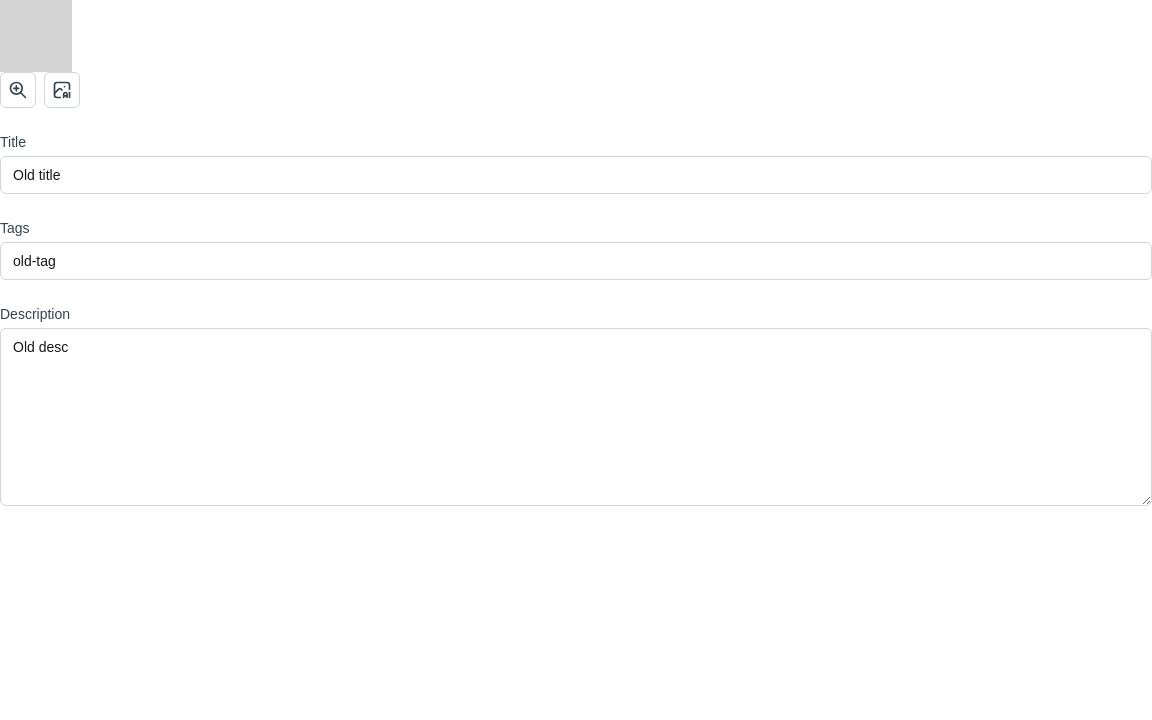
Scenario: ImageAiMetaSection › 取消确认不改表单，再次打开下拉回到页面语言
Step 1. Click the button named "AI recognize" → (62, 90), box [44,72,80,108]
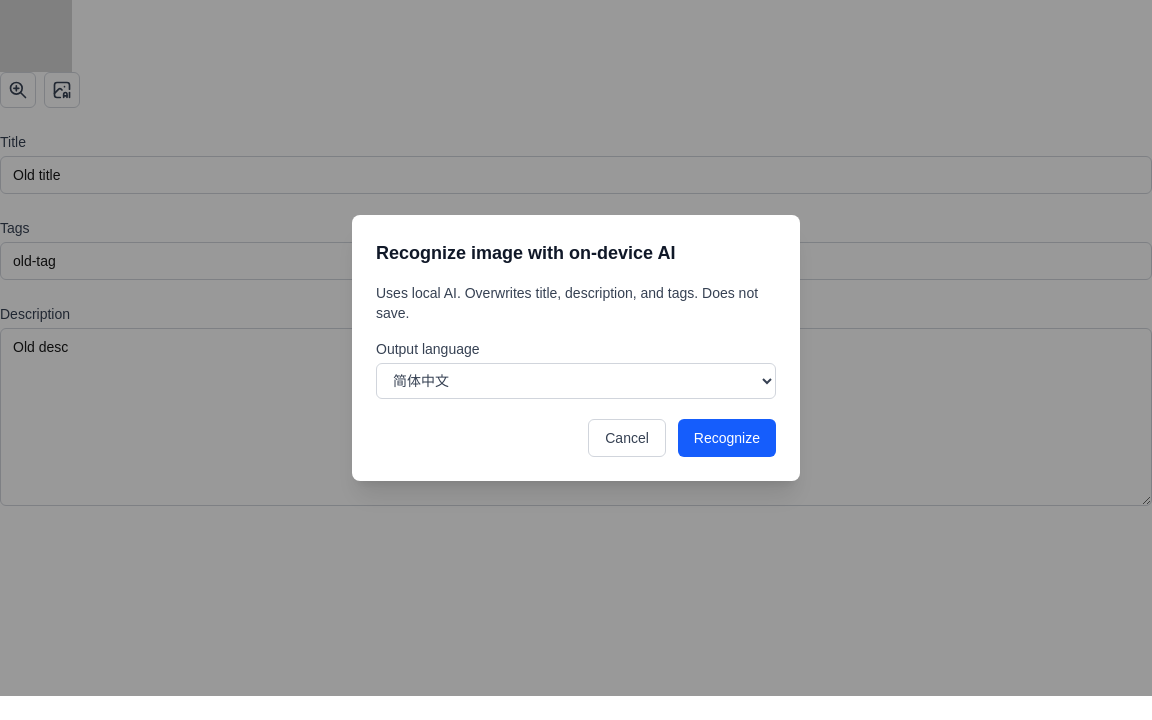
Expected: the dropdown labelled "Output language" shows "简体中文"
Step 2. Select "English" in the dropdown labelled "Output language" → (576, 381), box [376,363,776,399]
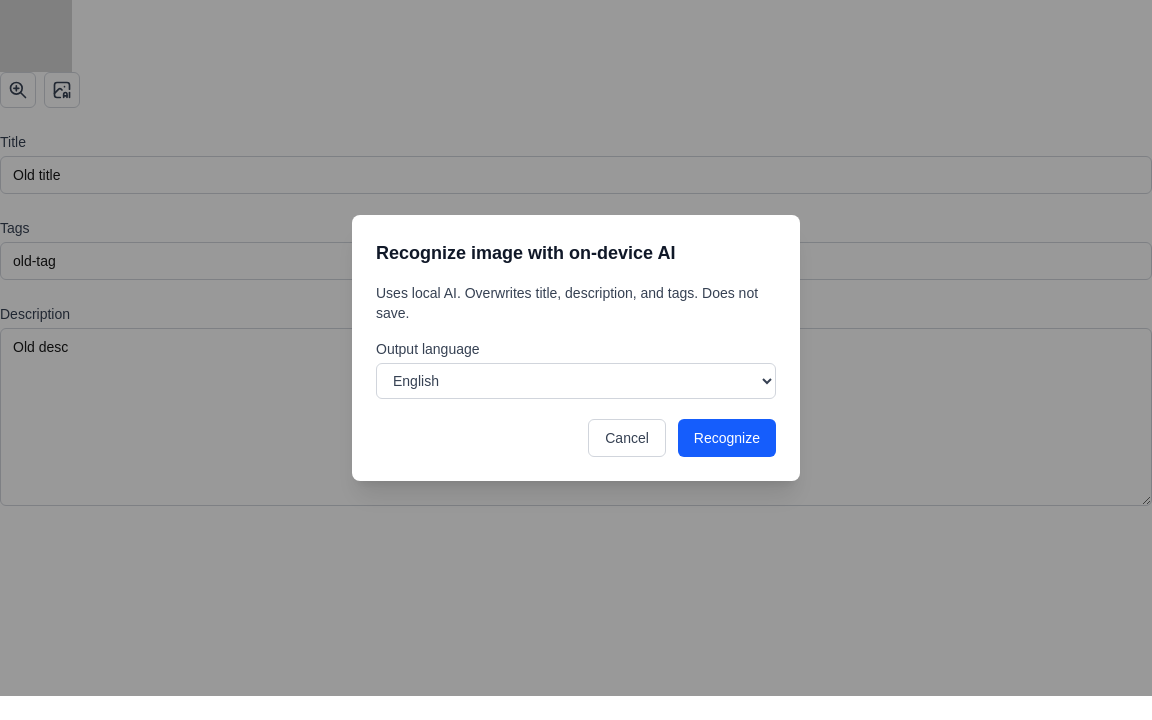
Step 3. Click the button "Cancel" → (627, 438), box [588,419,666,457]
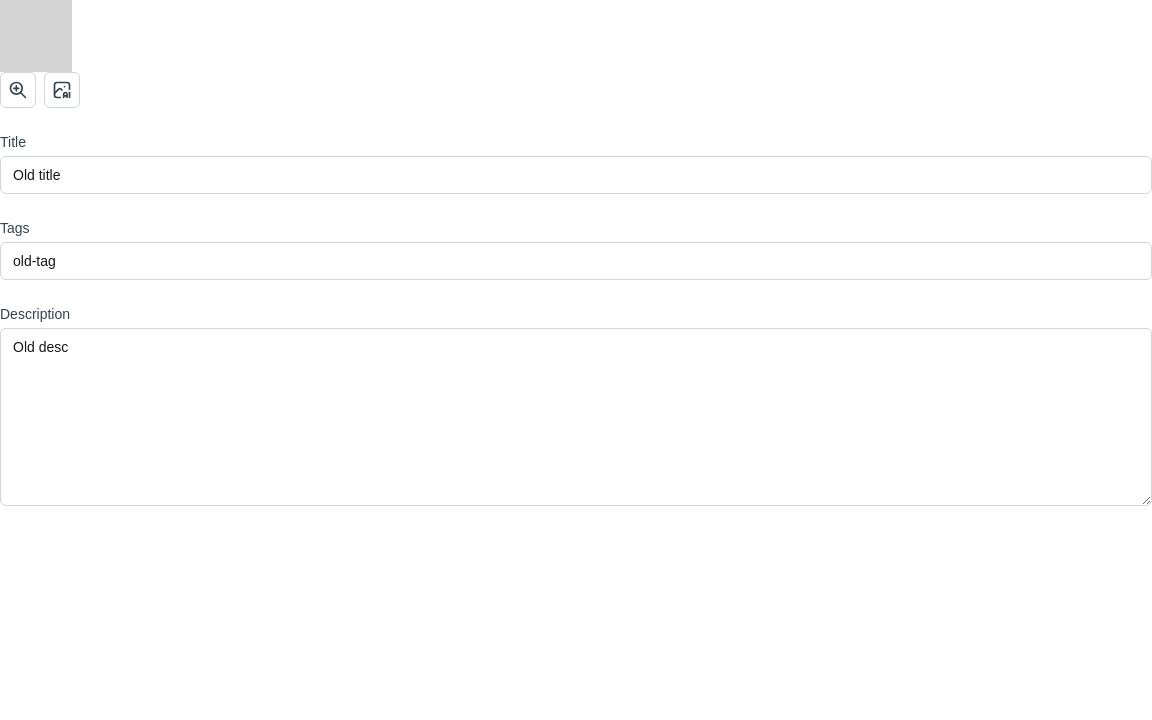
Expected: the field showing "Old title" below "Title" is shown, [0,156,1151,194]
Expected: the dialog is gone
Step 4. Click the button named "AI recognize" → (62, 90), box [44,72,80,108]
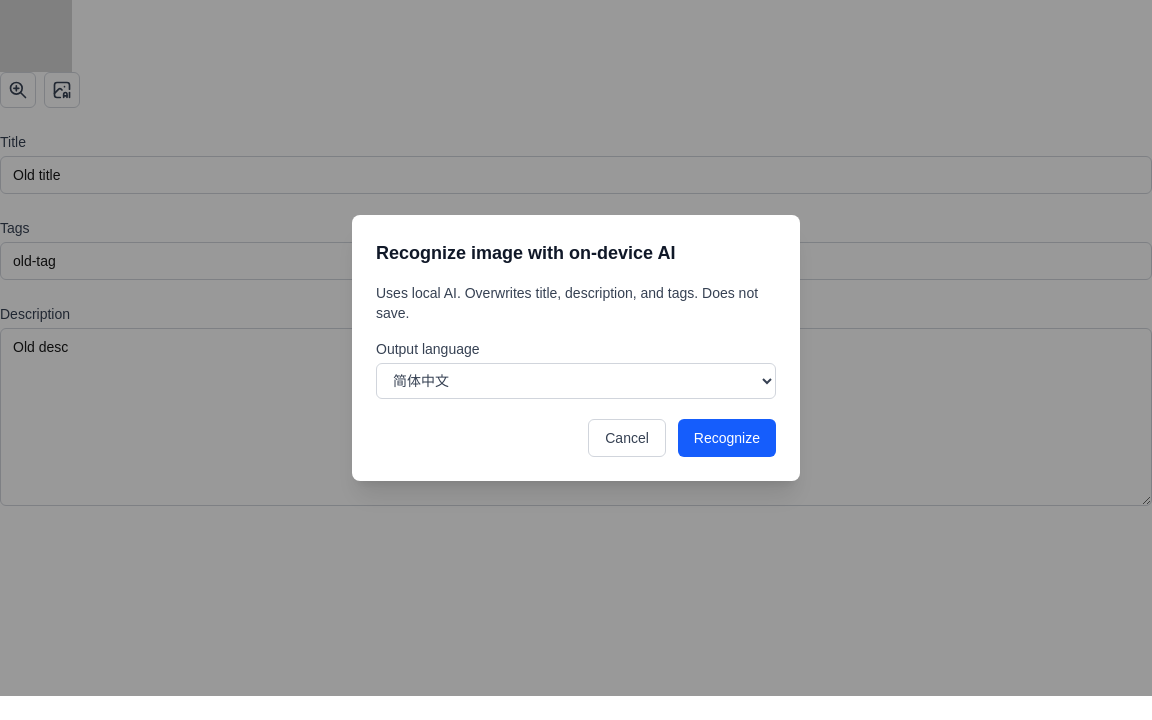
Expected: the dropdown labelled "Output language" shows "简体中文", [376,363,776,399]
